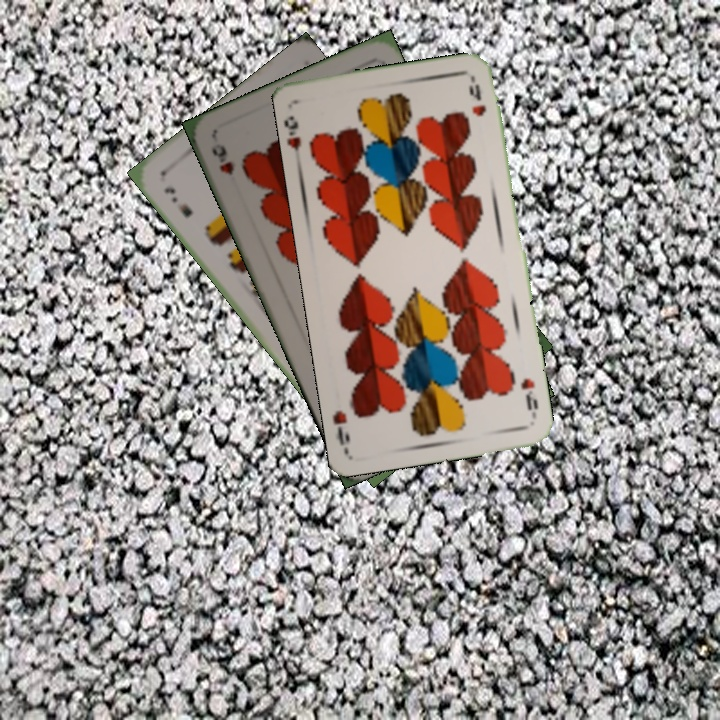E7: (160, 183, 195, 221)
H9: (207, 139, 237, 178), (517, 374, 541, 413), (282, 112, 304, 153)
